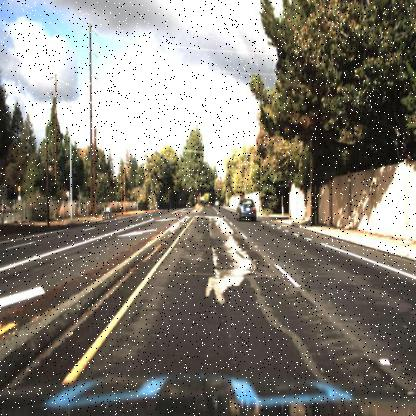car: (233, 196, 257, 224)
